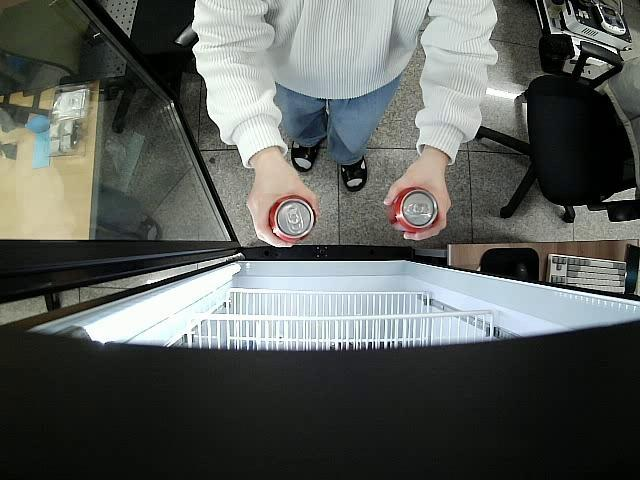11_cocaColaZero: (387, 186, 438, 234), (268, 196, 314, 242)
